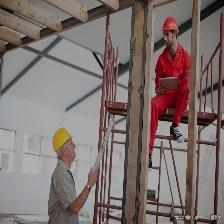Person: (148, 12, 189, 173), (44, 118, 83, 224)
helmet: (52, 126, 74, 153), (158, 17, 181, 36)
no-vest: (52, 170, 76, 218)
vest: (157, 51, 190, 112)
